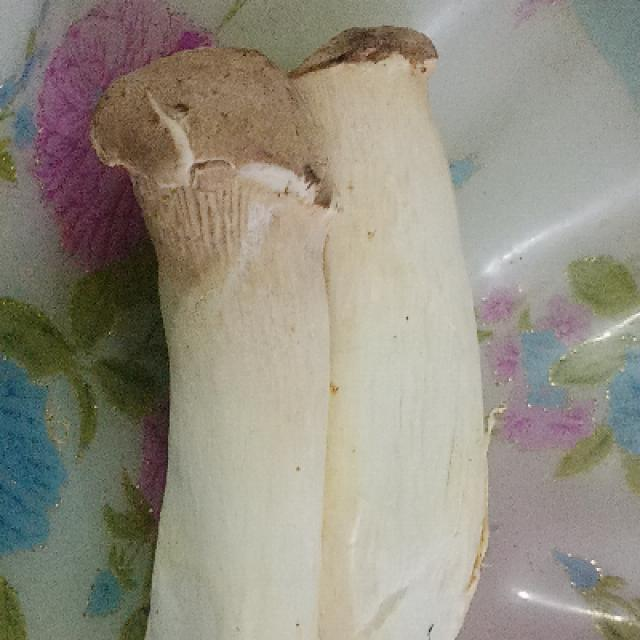Pleurotus eryngii: (88, 46, 334, 640), (287, 22, 492, 635)
